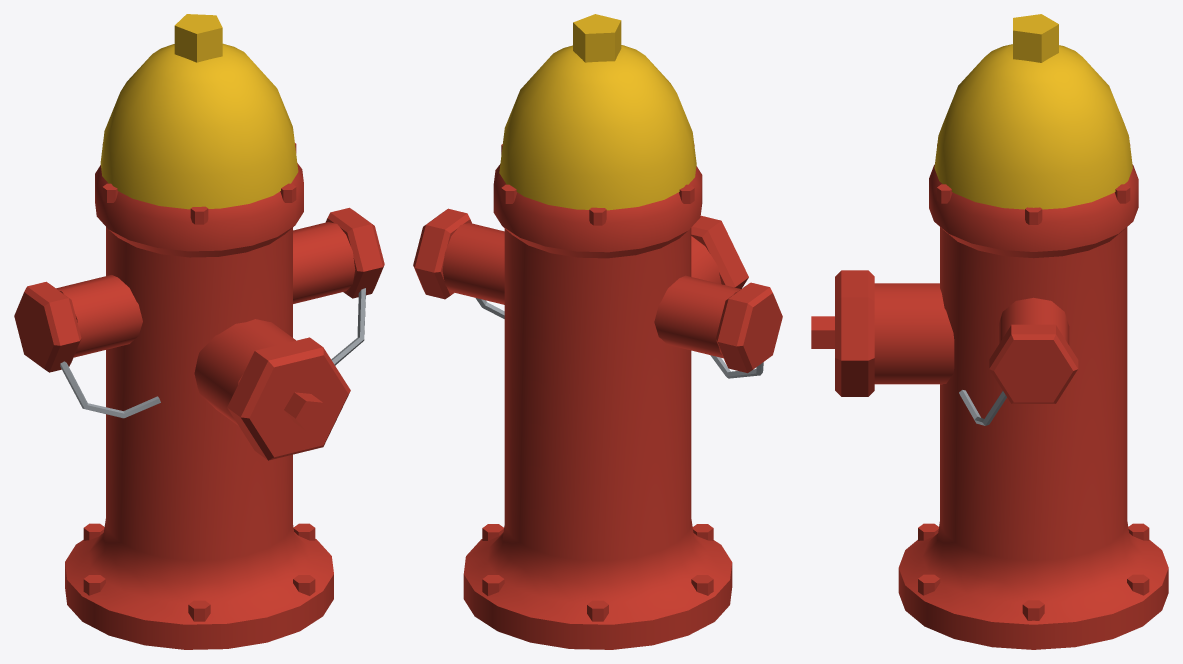
Rendered from FireHydrant.fbx.
The picture shows the model from 3 angles, left to right: view 1: azimuth 30°, elevation 25°; view 2: azimuth 150°, elevation 25°; view 3: azimuth 270°, elevation 25°; orthographic projection.
Visible parts, largest first — view 1: FireHydrant_Mesh; view 2: FireHydrant_Mesh; view 3: FireHydrant_Mesh.
Boxes of the visible parts, <box> form: FireHydrant_Mesh: <box>14,14,384,649</box>; FireHydrant_Mesh: <box>413,14,782,649</box>; FireHydrant_Mesh: <box>811,14,1168,649</box>.
Bounding box in the file's own units: 0.48 × 0.79 × 0.45.
